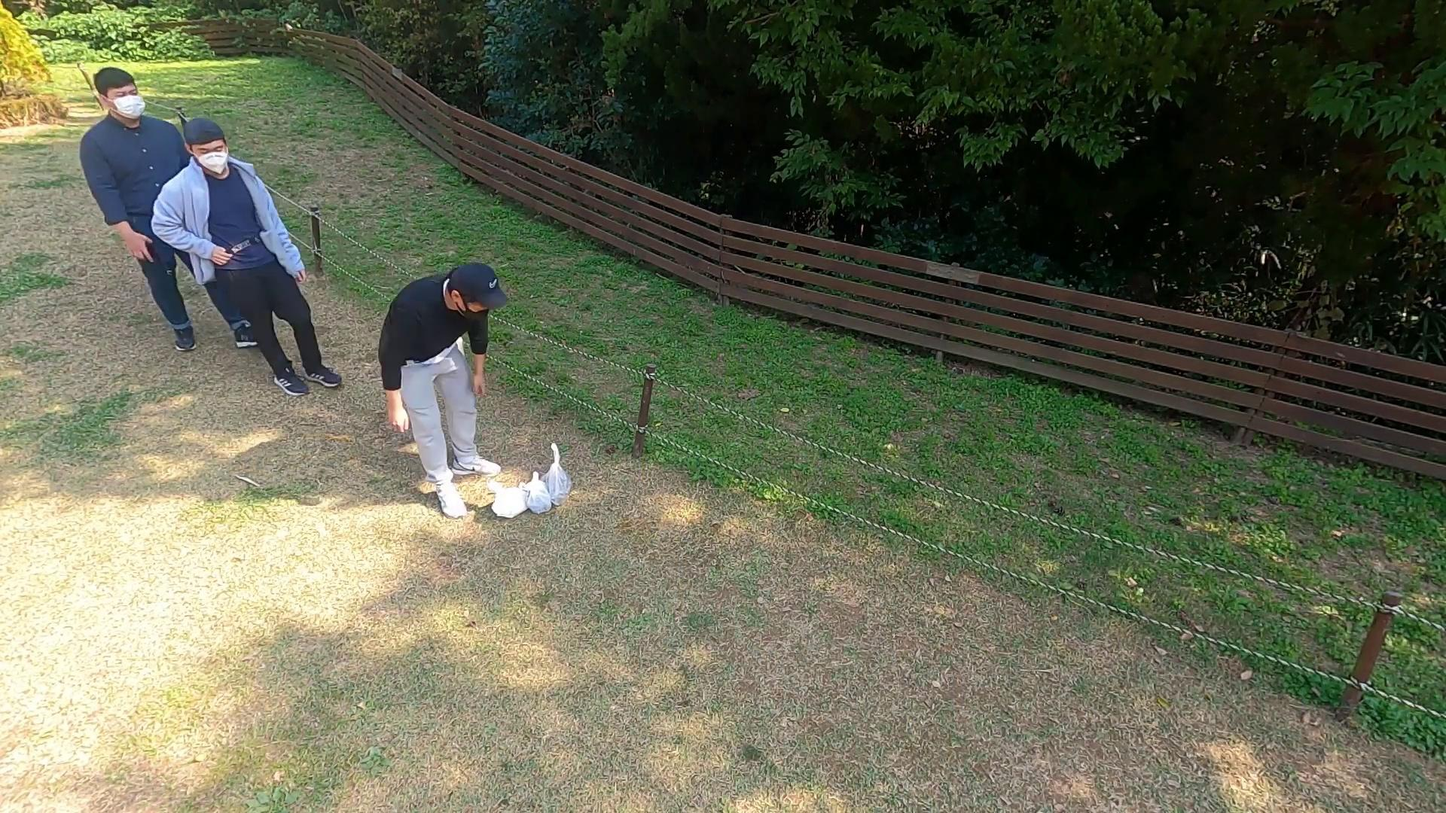person: (149, 116, 343, 399), (82, 65, 214, 357), (380, 260, 505, 520)
trash: (491, 484, 527, 520)
